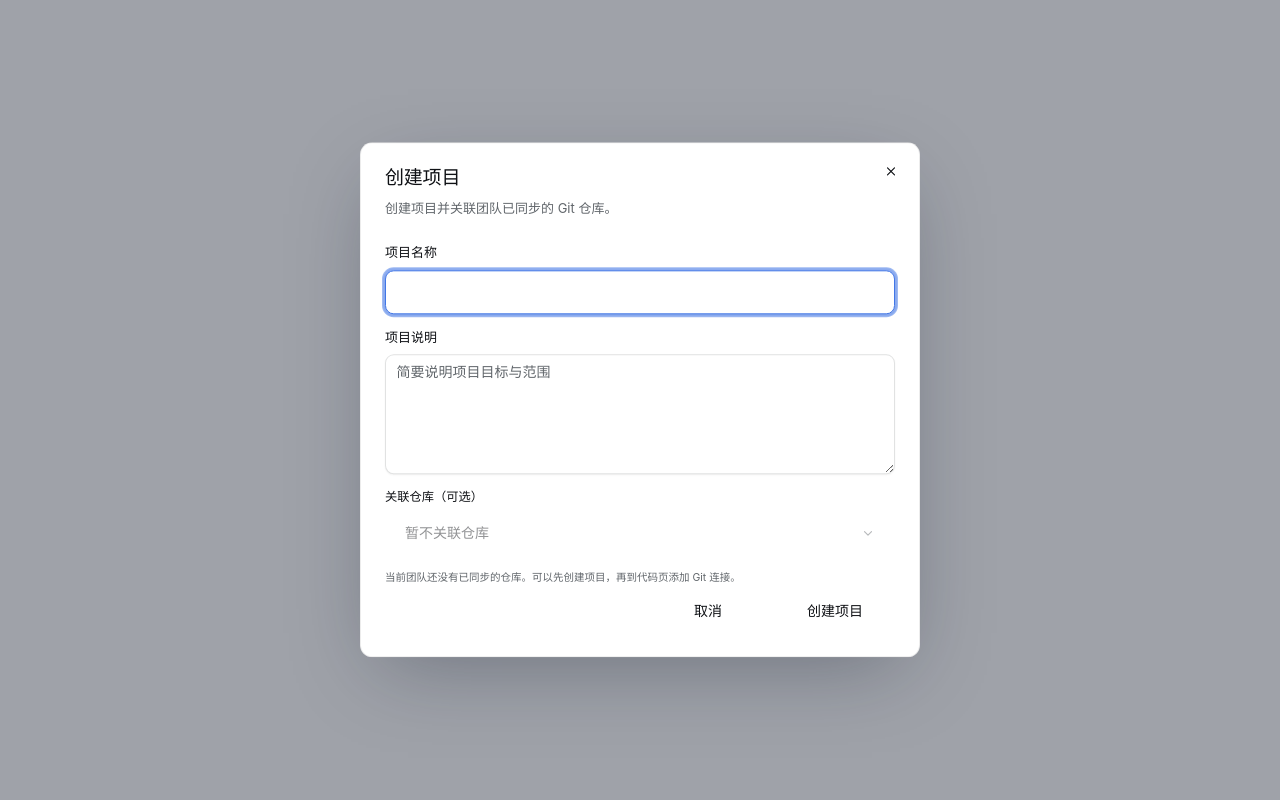
Test: ProjectForm › 仓库选择下拉顶部支持搜索并按名称选择
Click the dropdown named "关联仓库（可选）" at (447, 533), box [385,511,895,555]
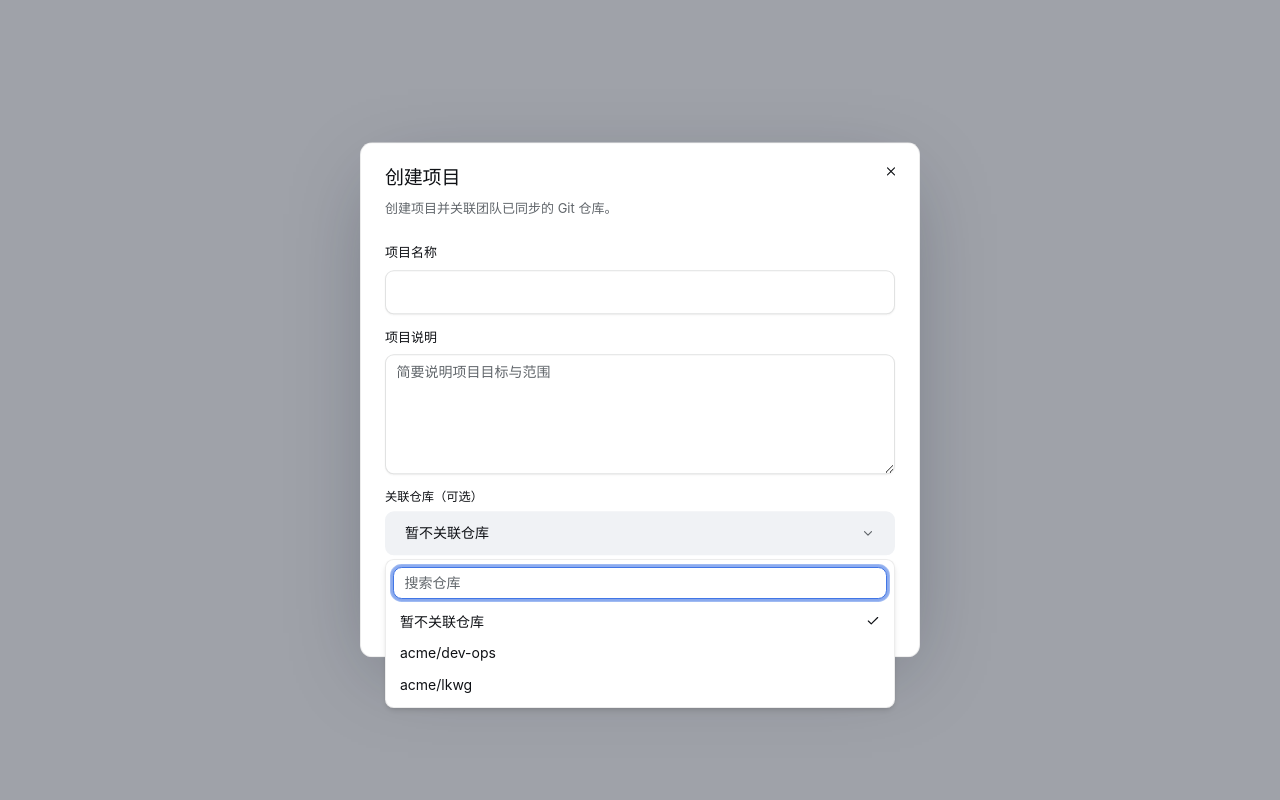
Type "missing" into the field labelled "搜索仓库" at (640, 583), box [393,567,887,598]
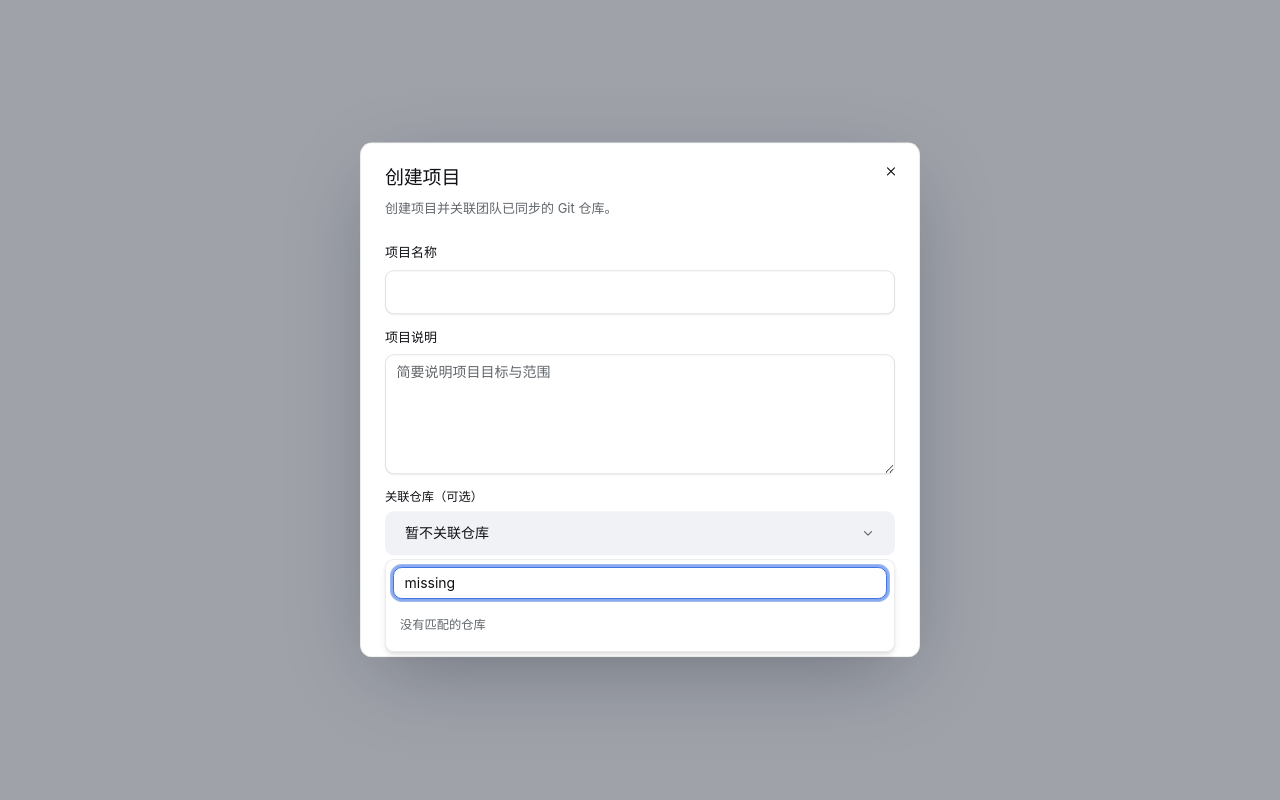
Result: the text "没有匹配的仓库" is shown at [400,617,486,632]
Replace the text in the field named "搜索仓库" with "lkwg" at (640, 583), box [393,567,887,598]
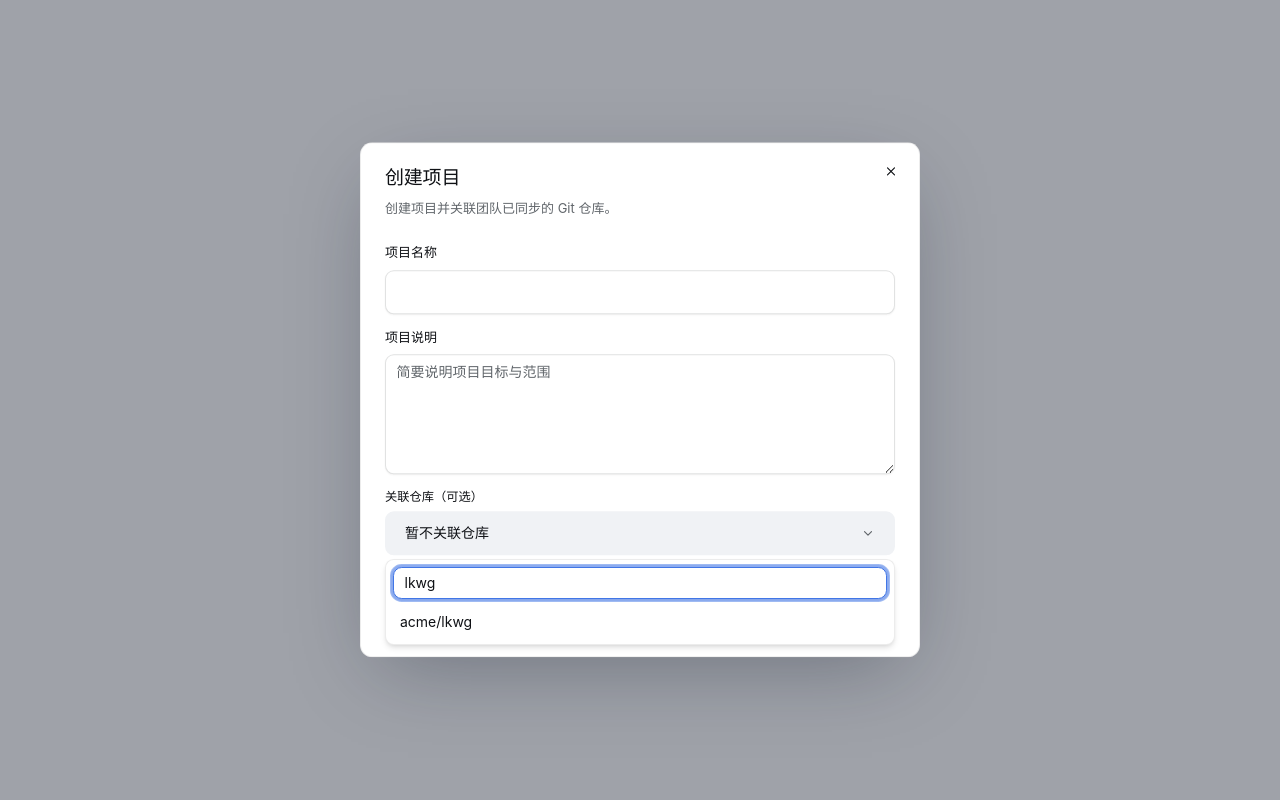
Click the option "acme/lkwg" at (436, 621), box [393,606,887,637]
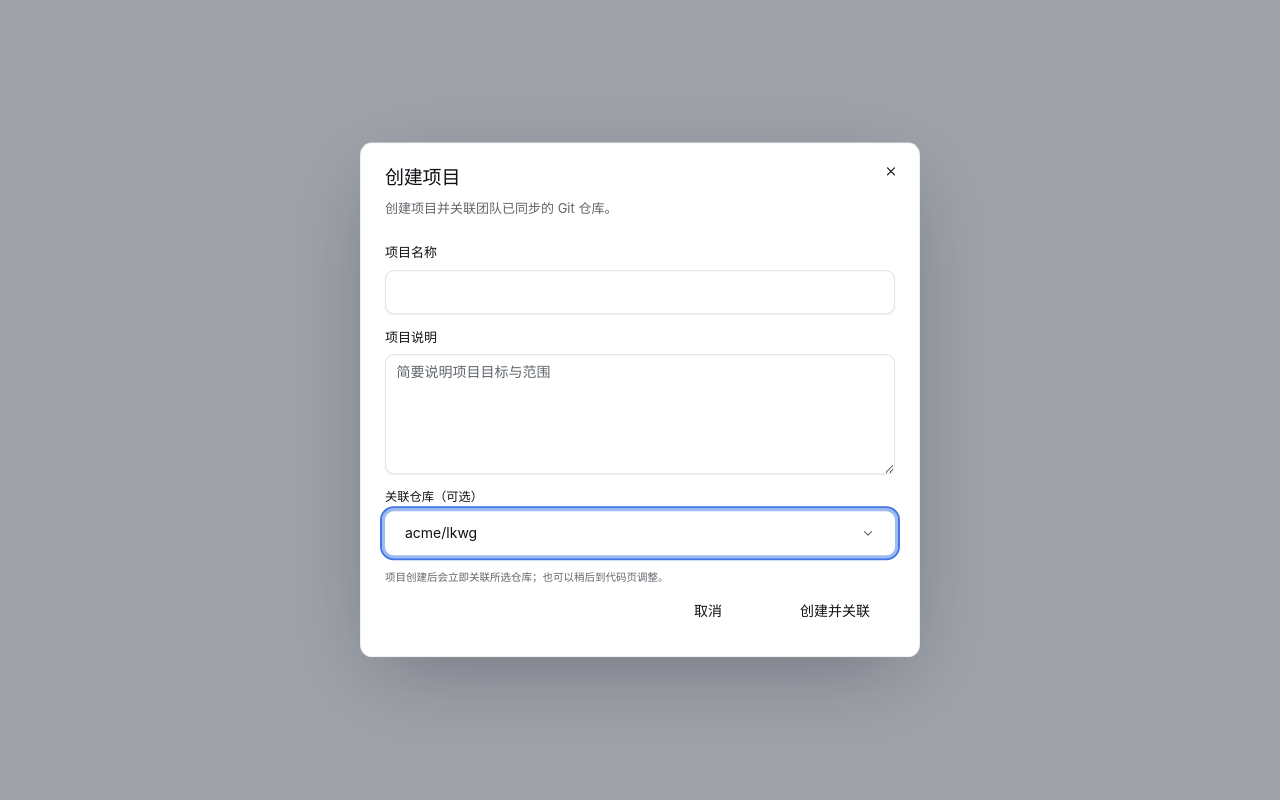
Result: the dropdown named "关联仓库（可选）" reads "acme/lkwg" at [385,511,895,555]
